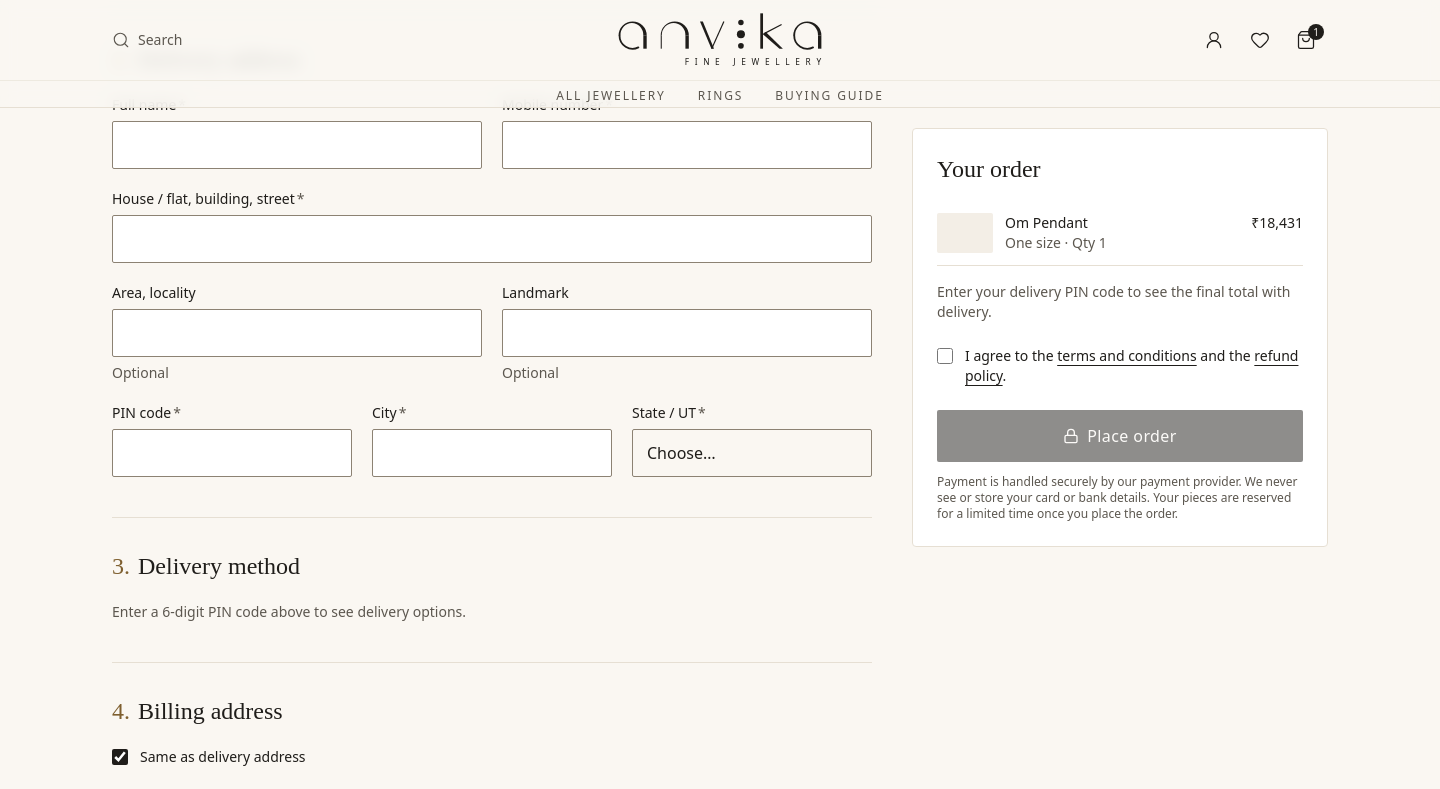
checkout › blocks ordering and focuses the problem when required details are missing
(page scrolled)
Type "560001" into the field labelled "PIN code*" at (232, 453), box x1=112 y1=429 x2=352 y2=477
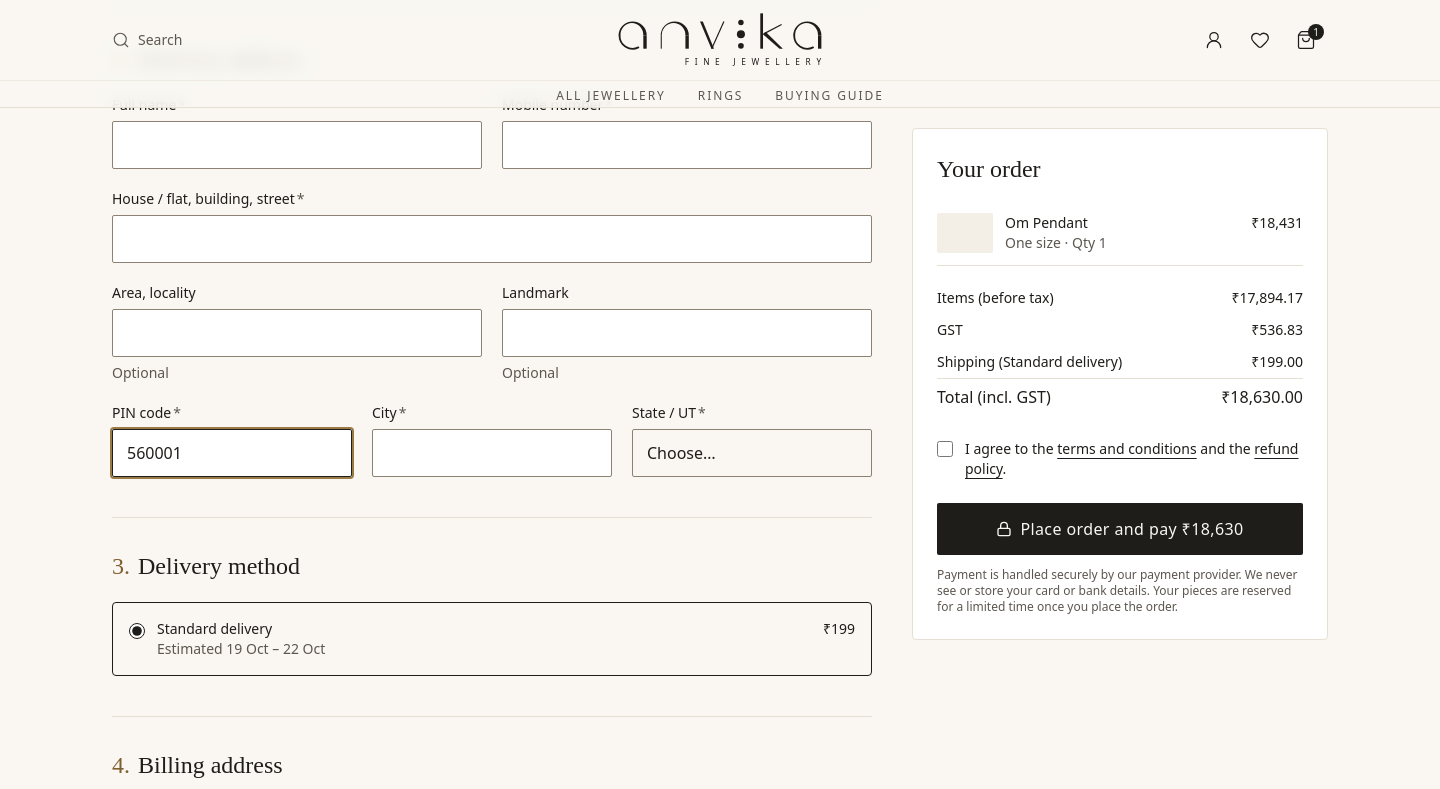
Click the button "Place order and pay ₹18,630" at (1120, 529), box x1=937 y1=503 x2=1303 y2=555
(page scrolled)
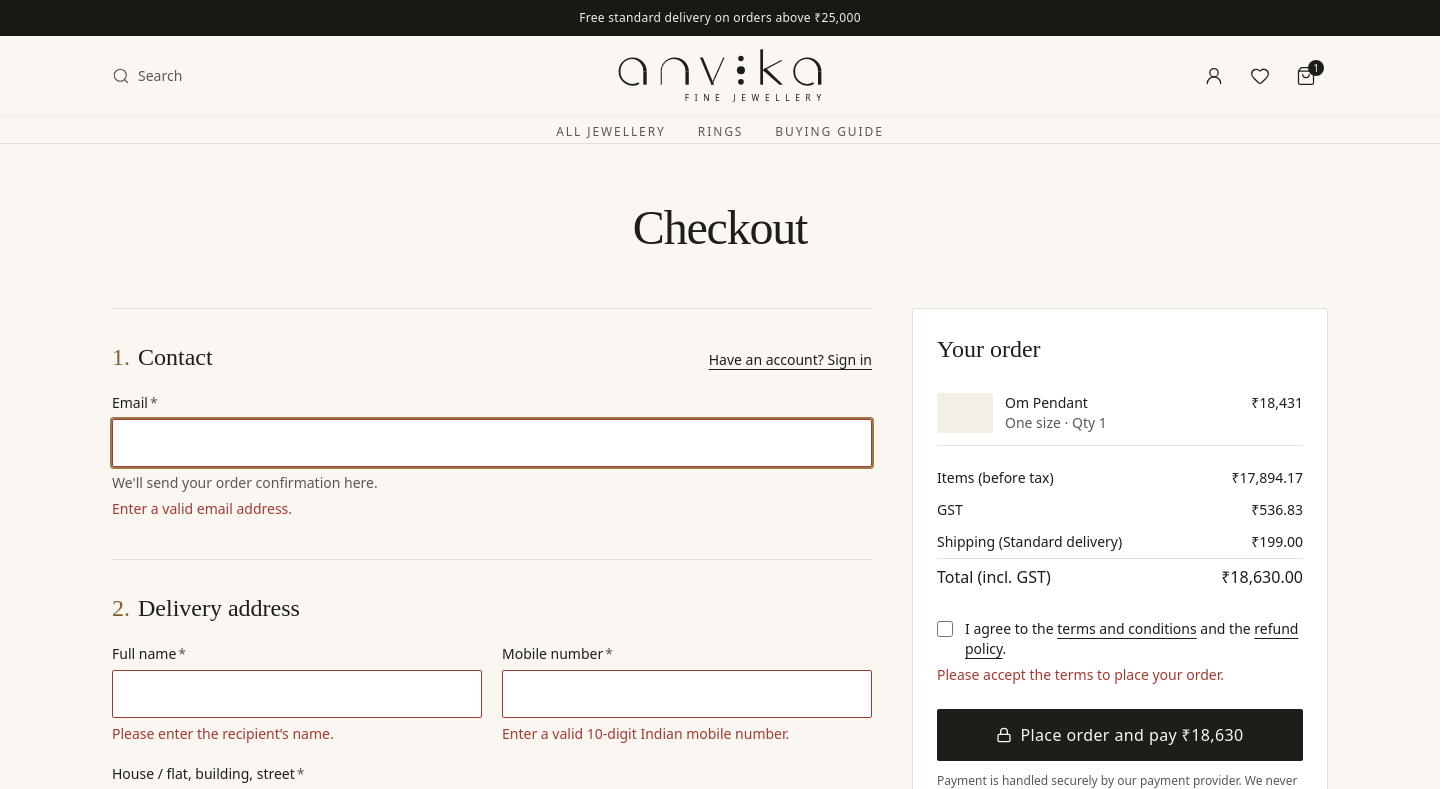
Expected: the text "Enter a valid email address." is shown, x1=112 y1=499 x2=292 y2=518
Expected: the text "Please accept the terms to place your order." is shown, x1=937 y1=665 x2=1224 y2=684
